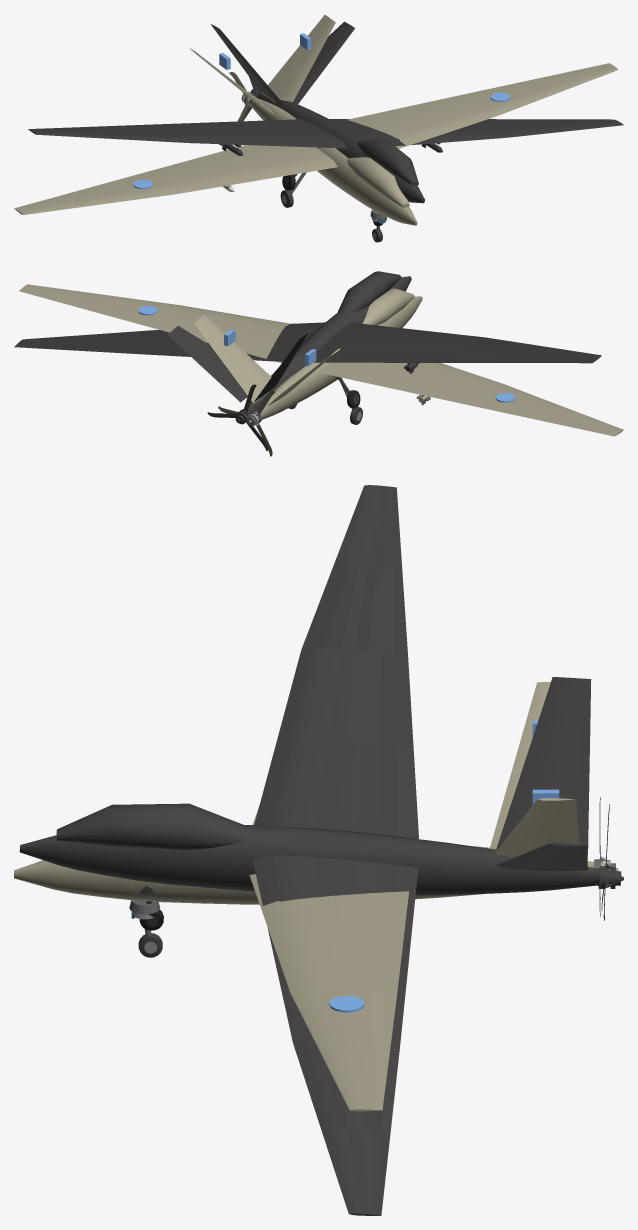
The model's file is drone__orion.glb.
3 views of the same model, one above another, from view 1: azimuth 30°, elevation 25°; view 2: azimuth 150°, elevation 25°; view 3: azimuth 270°, elevation 25° (orthographic). The views are drawn at different scales.
Visible parts, largest first — view 1: Fuselage_Mesh, Wreck; view 2: Fuselage_Mesh, Wreck, Propeller_Mesh; view 3: Wreck, Fuselage_Mesh.
Part boxes in pixels (x1,y1,x2,y2): Fuselage_Mesh: (14,15,618,242); Wreck: (28,21,623,225); Fuselage_Mesh: (19,284,623,436); Wreck: (14,271,601,450); Propeller_Mesh: (218,390,275,456); Wreck: (19,485,623,1215); Fuselage_Mesh: (14,682,593,1111).
Size of what is drawn, in the model's own units: 16.44 by 3.61 by 8.21.
